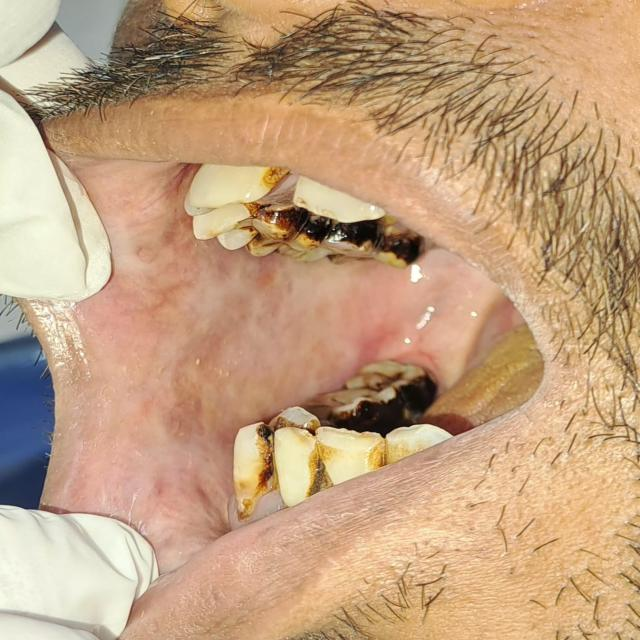leukoplakia-like-detection: (89, 164, 482, 543)
processing_area: (36, 164, 540, 566)
